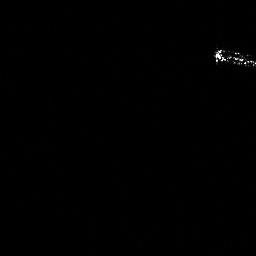ship: (213, 48, 256, 64)
